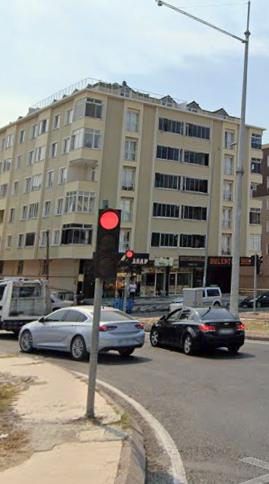redlight: (96, 209, 119, 279), (124, 249, 134, 272)
